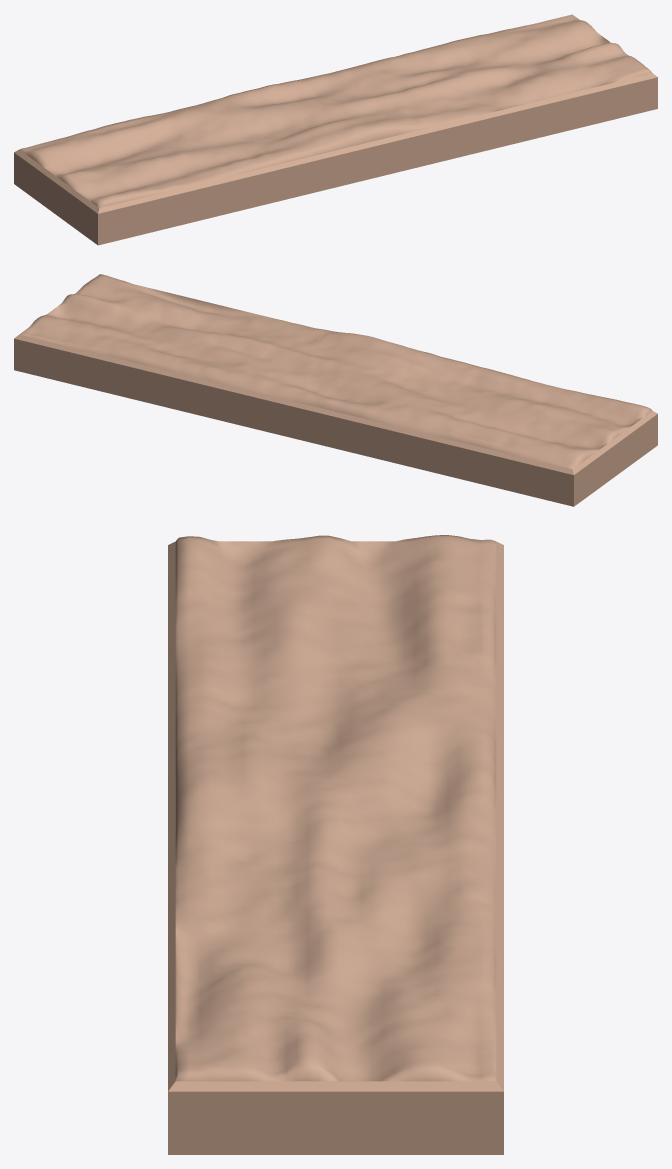
File: mahsulot.glb
3 views of the same model, one above another, from view 1: azimuth 30°, elevation 25°; view 2: azimuth 150°, elevation 25°; view 3: azimuth 270°, elevation 25° (orthographic). The views are drawn at different scales.
Visible parts, largest first — view 1: mahsulot; view 2: mahsulot; view 3: mahsulot.
Part boxes in pixels (x1,y1,x2,y2): mahsulot: (14,14,657,245); mahsulot: (14,274,657,506); mahsulot: (168,535,503,1154).
Size of the model in its own units: 0.25 by 0.0192 by 0.065.
